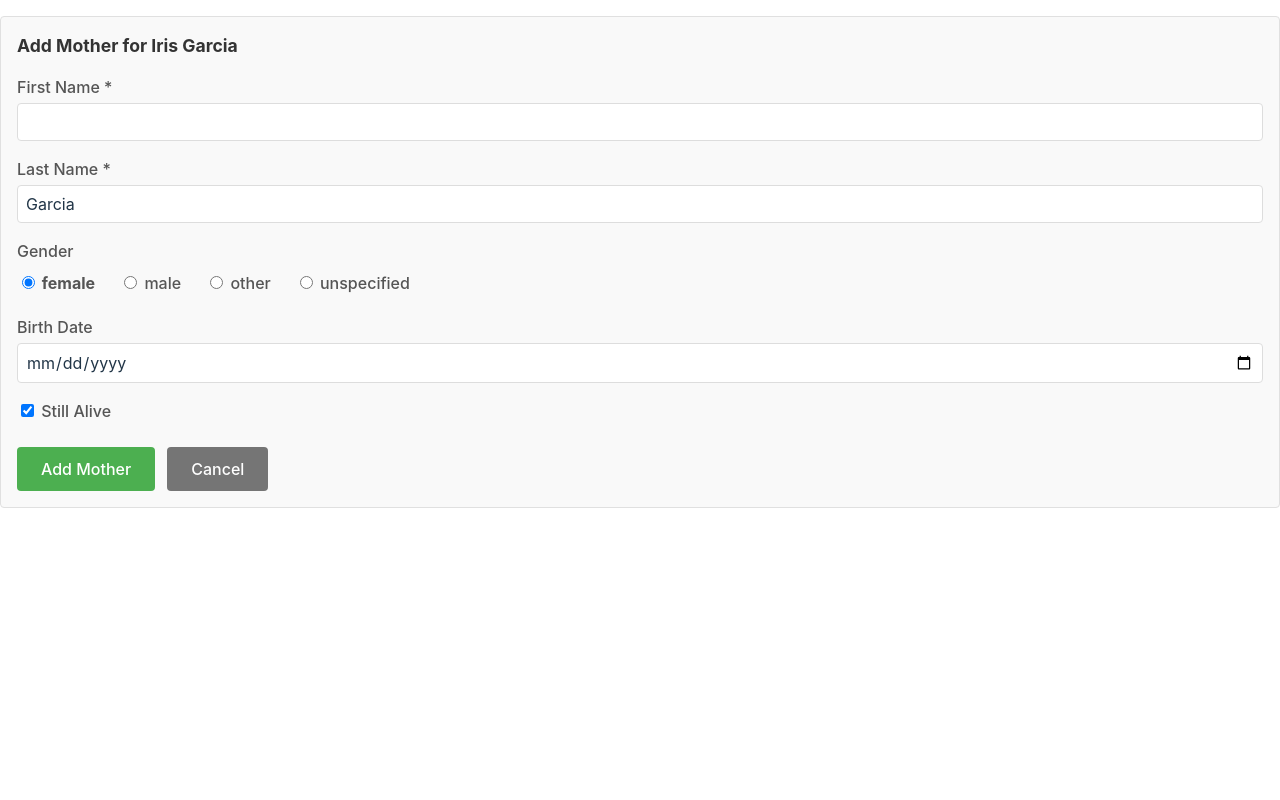
Scenario: QuickAddParent - Acceptance Tests (Issue #5) › Form Field Behavior › should hide death date field when "Still Alive" is checked
// First uncheck to show death date
Click the checkbox labelled "Still Alive": coordinates (28, 411) [21,404,34,417]
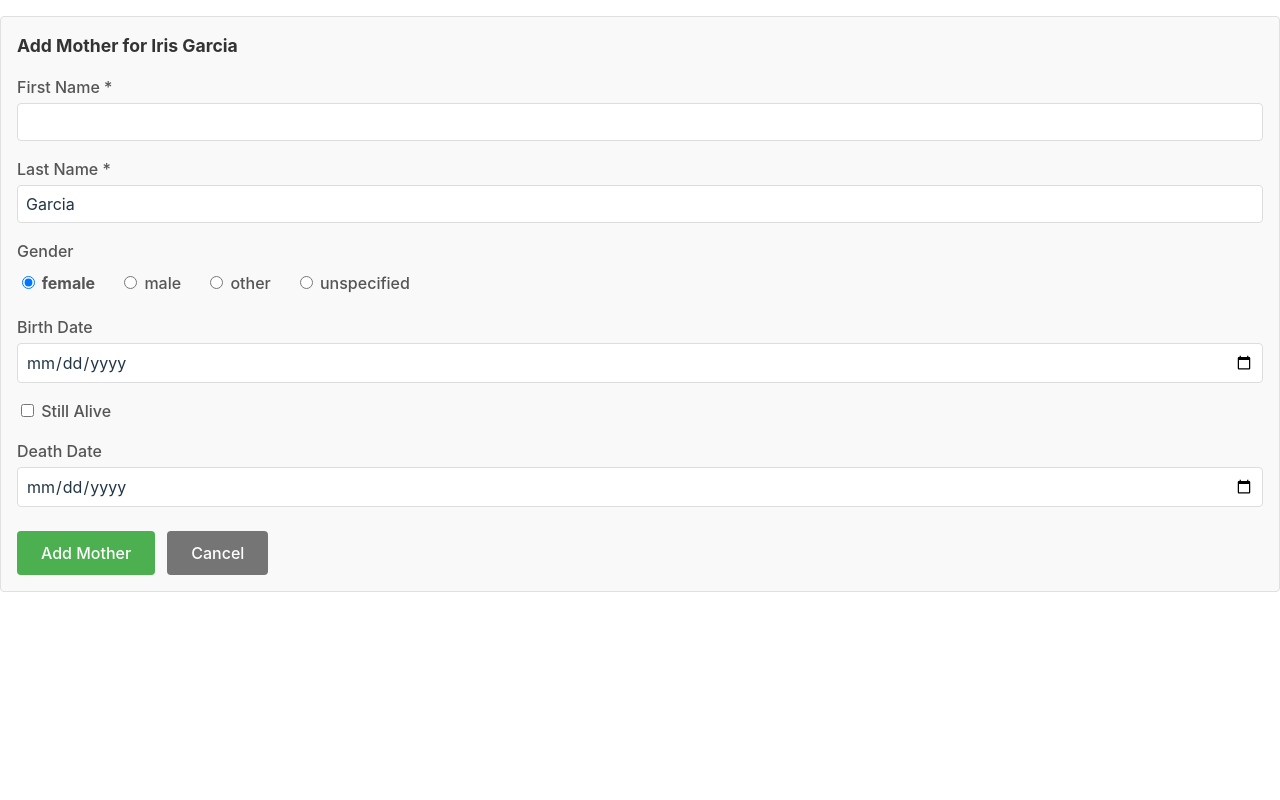
Result: the date field labelled "Death Date" is shown at [17,467,1263,507]
// Then check again to hide it
Click the checkbox labelled "Still Alive": coordinates (28, 411) [21,404,34,417]
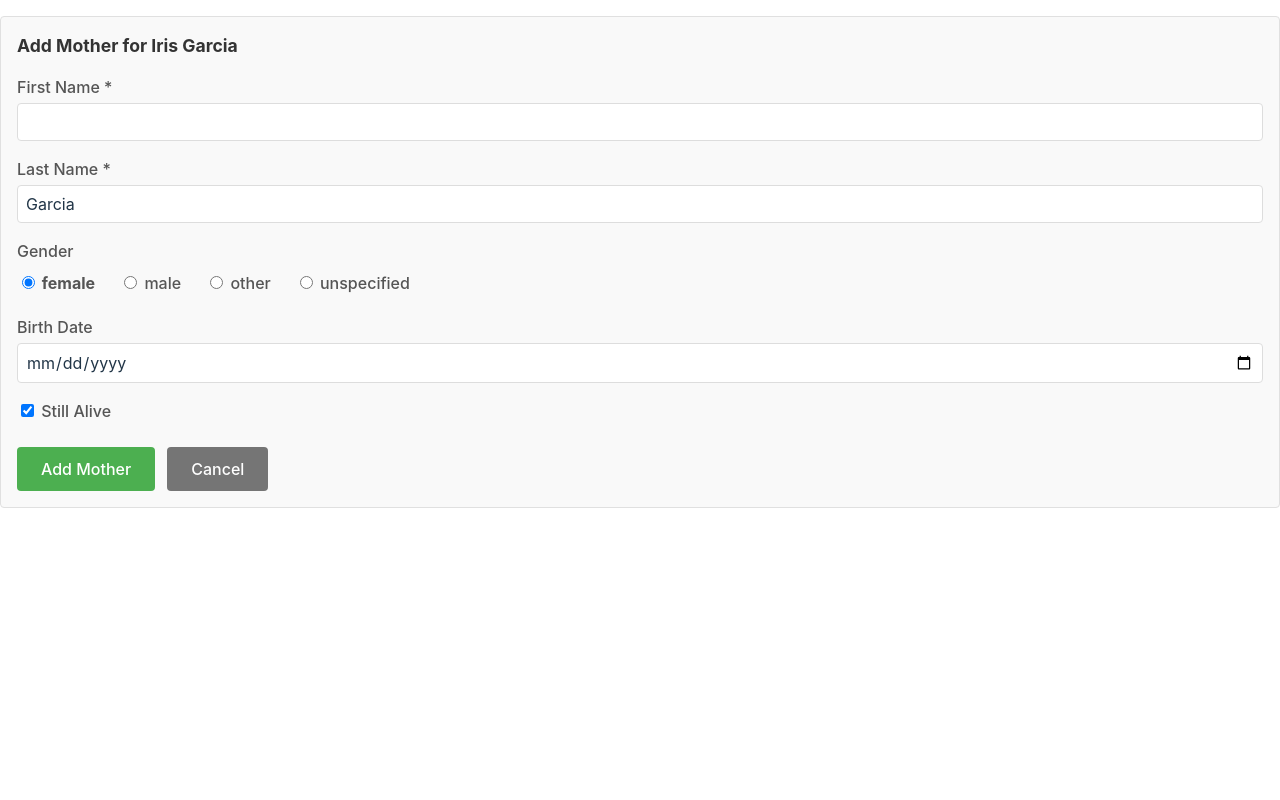
Result: the label is gone
